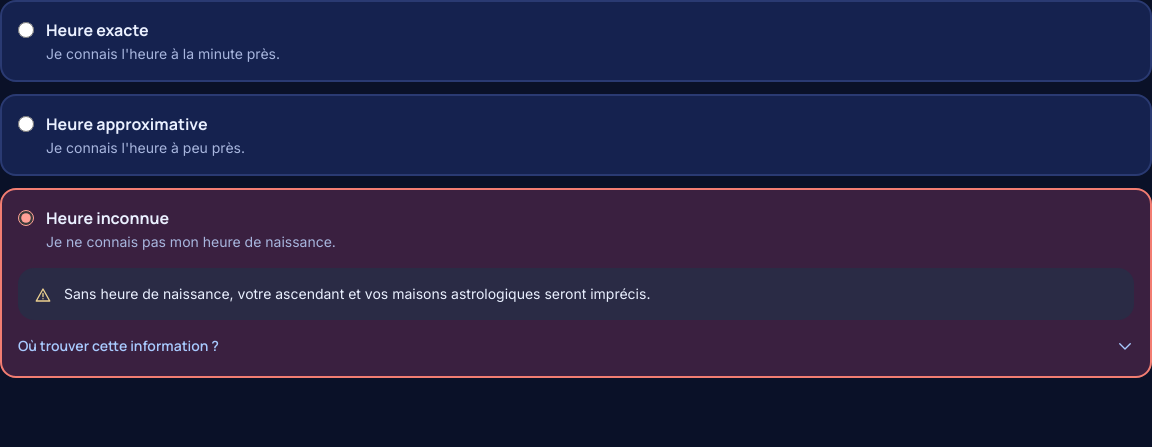
Test case: TimeStep › warns about an unknown time and explains where to find it
Check: the text "ascendant et vos maisons" is shown, box [64, 285, 650, 302]
Click the button "Où trouver cette information ?" at (118, 346), box [18, 332, 1134, 360]
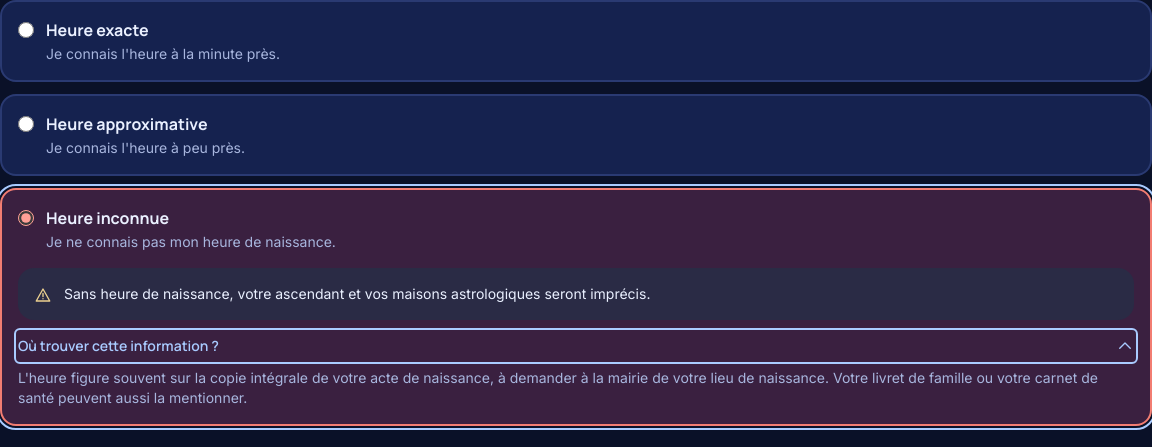
Check: the button "Où trouver cette information ?" is expanded, box [18, 332, 1134, 360]
Check: the text "acte de naissance" is shown, box [18, 369, 1098, 406]
